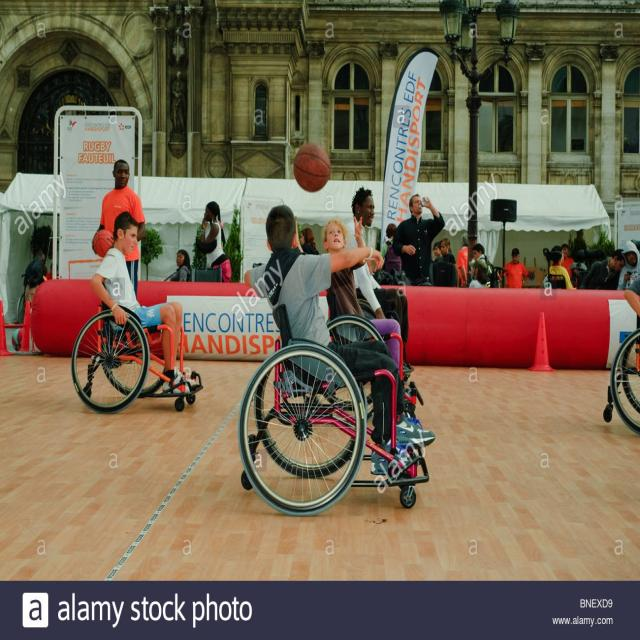body: (241, 202, 438, 477), (88, 208, 198, 397), (294, 214, 402, 375), (343, 185, 415, 376), (90, 158, 146, 301), (392, 193, 446, 287), (200, 200, 233, 282), (579, 248, 627, 290), (569, 229, 615, 261), (498, 247, 529, 290), (615, 240, 640, 292), (380, 222, 402, 272), (439, 237, 460, 289), (471, 242, 494, 284), (622, 270, 640, 322), (24, 249, 46, 286), (561, 242, 578, 289), (170, 248, 192, 282), (561, 245, 578, 289), (456, 232, 469, 288), (468, 258, 491, 288), (300, 227, 320, 255), (43, 262, 61, 282), (432, 242, 443, 262)
